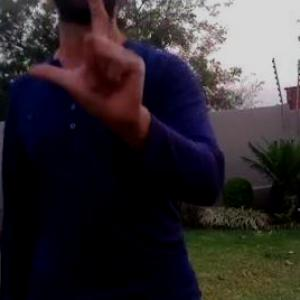land_hand: (26, 0, 152, 128)
